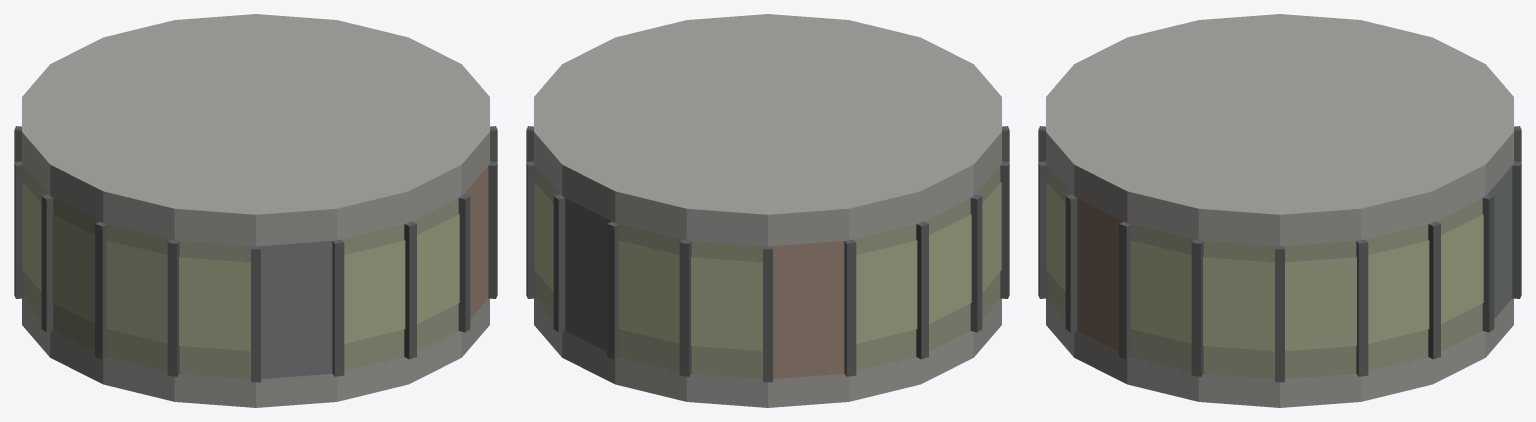
File: z2c_rundkiosk.glb
The picture shows the model from 3 angles, left to right: view 1: azimuth 30°, elevation 25°; view 2: azimuth 150°, elevation 25°; view 3: azimuth 270°, elevation 25°; orthographic projection.
Parts seen in each view (by area): view 1: z2c_rundkiosk; view 2: z2c_rundkiosk; view 3: z2c_rundkiosk.
Boxes of the visible parts, <box> form: z2c_rundkiosk: <box>14,14,497,407</box>; z2c_rundkiosk: <box>526,14,1009,407</box>; z2c_rundkiosk: <box>1038,14,1521,407</box>.
Size of the model in its own units: 7 by 3.05 by 6.92.
Materials: 1 (1 with a texture image).
